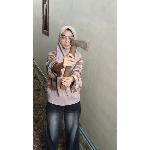Kapak: (58, 38, 95, 91)
